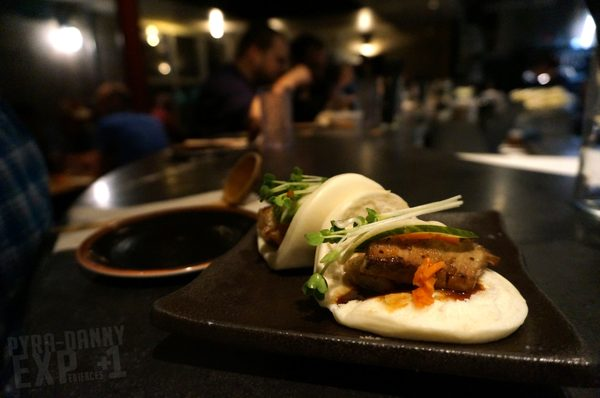soup: (302, 191, 528, 343), (254, 170, 409, 272)
